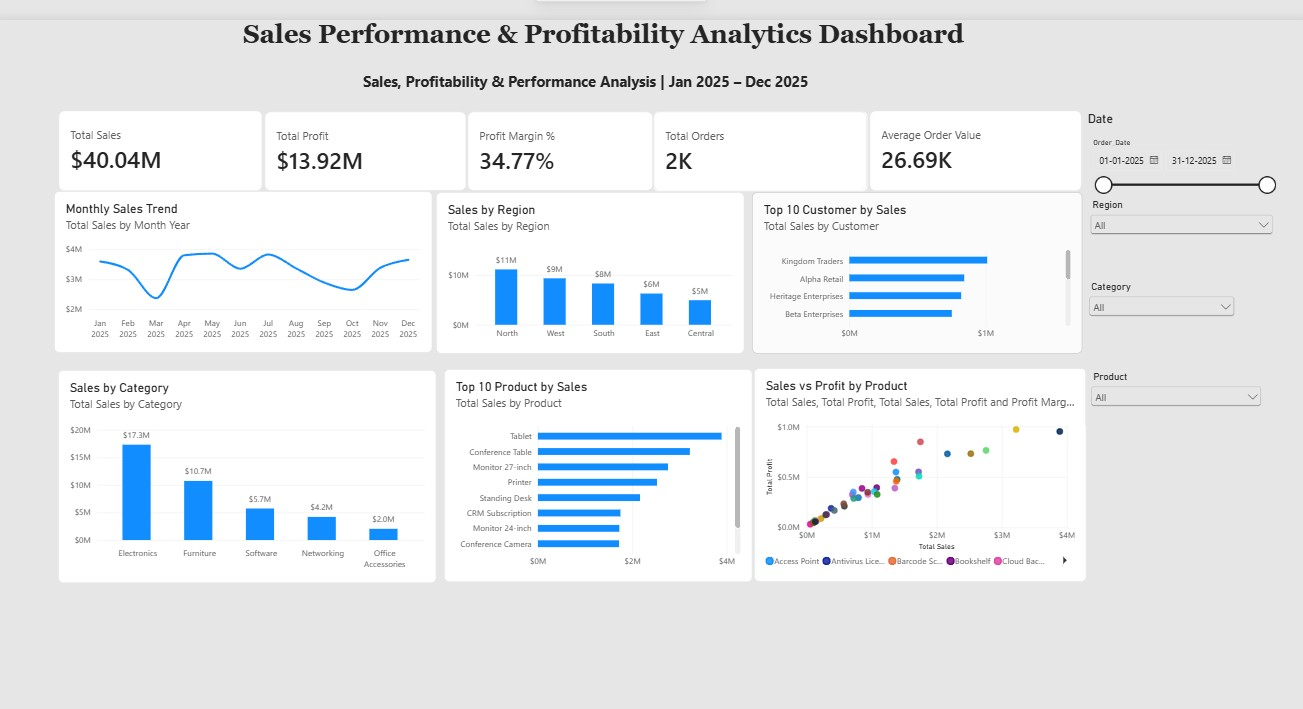

The dashboard page shown, as its layout file describes it:
{"tool":"powerbi","page":{"name":"Page 1","canvas":[1920,1080],"ordinal":0},"visuals":[{"type":"cardVisual","fields":{"Data":["Sales_Data.Total Sales"]},"box":[92.4,131.5,299.1,119],"z":0},{"type":"cardVisual","fields":{"Data":["Sales_Data.Total Profit"]},"box":[391.9,132.9,296,117.9],"z":1},{"type":"cardVisual","fields":{"Data":["Sales_Data.Profit Margin %"]},"box":[688,132.9,272.7,117.9],"z":2},{"type":"cardVisual","fields":{"Data":["Sales_Data.Total Orders"]},"box":[960.7,132.9,313.8,117.9],"z":3},{"type":"cardVisual","fields":{"Data":["Sales_Data.Average Order Value"]},"box":[1274.8,131.5,311.6,119],"z":4},{"type":"lineChart","title":"Monthly Sales Trend","fields":{"Category":["DateTable.Month Year"],"Y":["Sales_Data.Total Sales"]},"box":[86.1,249,552.3,235.7],"z":5},{"type":"clusteredColumnChart","title":"Sales by Region","fields":{"Category":["Sales_Data.Region"],"Y":["Sales_Data.Total Sales"]},"box":[643.7,250.6,449.5,235.7],"z":6},{"type":"clusteredColumnChart","title":"Sales by Category","fields":{"Category":["Sales_Data.Category"],"Y":["Sales_Data.Total Sales"]},"box":[92.4,510.5,552.3,311.1],"z":7},{"type":"barChart","title":"Top 10 Product by Sales","fields":{"Category":["Sales_Data.Product"],"Y":["Sales_Data.Total Sales"]},"box":[654.6,509,449.5,311.1],"z":8},{"type":"barChart","title":"Top 10 Customer by Sales","fields":{"Category":["Sales_Data.Customer"],"Y":["Sales_Data.Total Sales"]},"box":[1104.1,250.6,482.3,236.5],"z":9},{"type":"scatterChart","title":"Sales vs Profit by Product","fields":{"Series":["Sales_Data.Product"],"X":["Sales_Data.Total Sales"],"Y":["Sales_Data.Total Profit"]},"box":[1107.2,507.4,485.5,311.6],"z":10},{"type":"slicer","title":"Date","fields":{"Values":["Sales_Data.Order_Date"]},"box":[1592.7,133.1,280.3,128.4],"z":12},{"type":"slicer","fields":{"Values":["Sales_Data.Category"]},"box":[1589.6,379,223.9,216.1],"z":13},{"type":"slicer","fields":{"Values":["Sales_Data.Product"]},"box":[1592.7,510.5,260.4,216.5],"z":14},{"type":"textbox","box":[361.8,0,1084,48],"z":16},{"type":"textbox","box":[537.2,74,651,38.4],"z":17},{"type":"slicer","fields":{"Values":["Sales_Data.Region"]},"box":[1592.7,261.5,275.6,70.5],"z":18}]}

Visuals, with their boxes on the page's 1920x1080 design canvas (x1, y1, x2, y2). These are canvas units, not pixel positions in the 1303x709 screenshot, which may show the page scaled, cropped or inside an application window:
cardVisual - Sales_Data.Total Sales: Rect(92, 132, 392, 250)
cardVisual - Sales_Data.Total Profit: Rect(392, 133, 688, 251)
cardVisual - Sales_Data.Profit Margin %: Rect(688, 133, 961, 251)
cardVisual - Sales_Data.Total Orders: Rect(961, 133, 1274, 251)
cardVisual - Sales_Data.Average Order Value: Rect(1275, 132, 1586, 250)
"Monthly Sales Trend" lineChart: Rect(86, 249, 638, 485)
"Sales by Region" clusteredColumnChart: Rect(644, 251, 1093, 486)
"Sales by Category" clusteredColumnChart: Rect(92, 510, 645, 822)
"Top 10 Product by Sales" barChart: Rect(655, 509, 1104, 820)
"Top 10 Customer by Sales" barChart: Rect(1104, 251, 1586, 487)
"Sales vs Profit by Product" scatterChart: Rect(1107, 507, 1593, 819)
"Date" slicer: Rect(1593, 133, 1873, 262)
slicer - Sales_Data.Category: Rect(1590, 379, 1814, 595)
slicer - Sales_Data.Product: Rect(1593, 510, 1853, 727)
textbox: Rect(362, 0, 1446, 48)
textbox: Rect(537, 74, 1188, 112)
slicer - Sales_Data.Region: Rect(1593, 262, 1868, 332)
